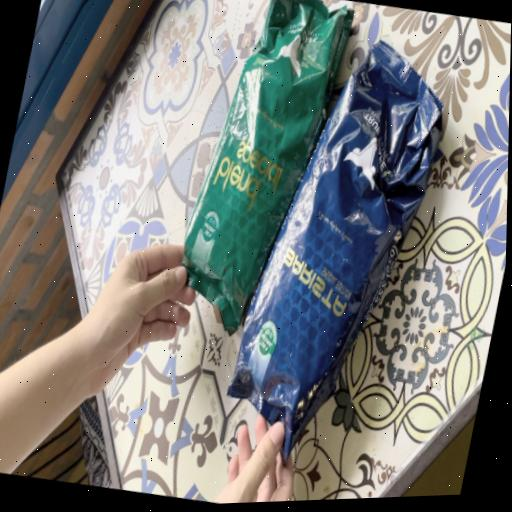cafe_hat: (227, 41, 441, 456)
cafe_xay: (182, 0, 353, 332)
